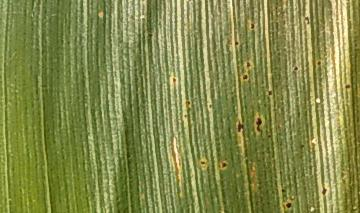tarspot: (252, 115, 265, 137), (233, 118, 247, 134), (282, 199, 296, 211), (319, 184, 330, 197), (243, 60, 255, 70), (291, 63, 301, 75), (199, 157, 208, 170), (219, 159, 229, 170), (232, 38, 243, 48), (170, 75, 180, 86), (278, 186, 289, 196), (248, 19, 256, 32), (239, 72, 250, 81), (265, 87, 274, 98), (315, 57, 324, 68), (343, 82, 352, 90)
